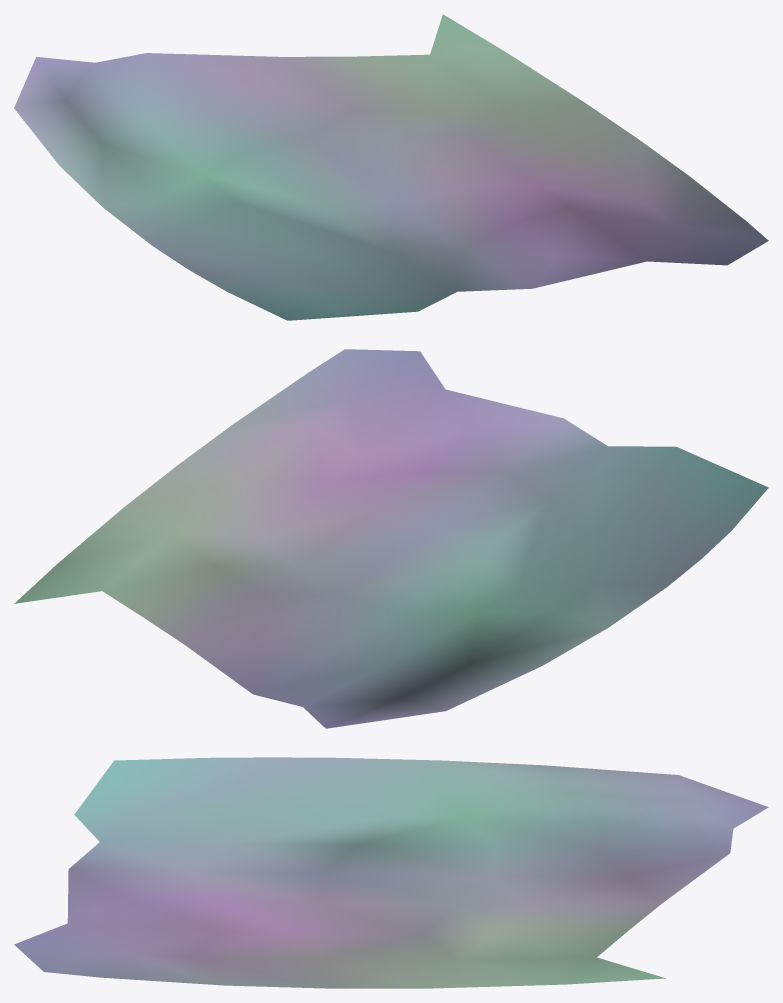
Rendered from space-galaxies-irregular-galaxy_v18.glb.
The picture shows the model from 3 angles, top to bottom: view 1: azimuth 30°, elevation 25°; view 2: azimuth 150°, elevation 25°; view 3: azimuth 270°, elevation 25°; orthographic projection. The views are drawn at different scales.
Visible parts, largest first — view 1: Irregular Galaxy_v18; view 2: Irregular Galaxy_v18; view 3: Irregular Galaxy_v18.
Part boxes in pixels (x1,y1,x2,y2): Irregular Galaxy_v18: (14, 14, 768, 320); Irregular Galaxy_v18: (14, 349, 768, 728); Irregular Galaxy_v18: (14, 757, 768, 988).
Bounding box in the file's own units: 0.3538 × 0.00996 × 0.5.
